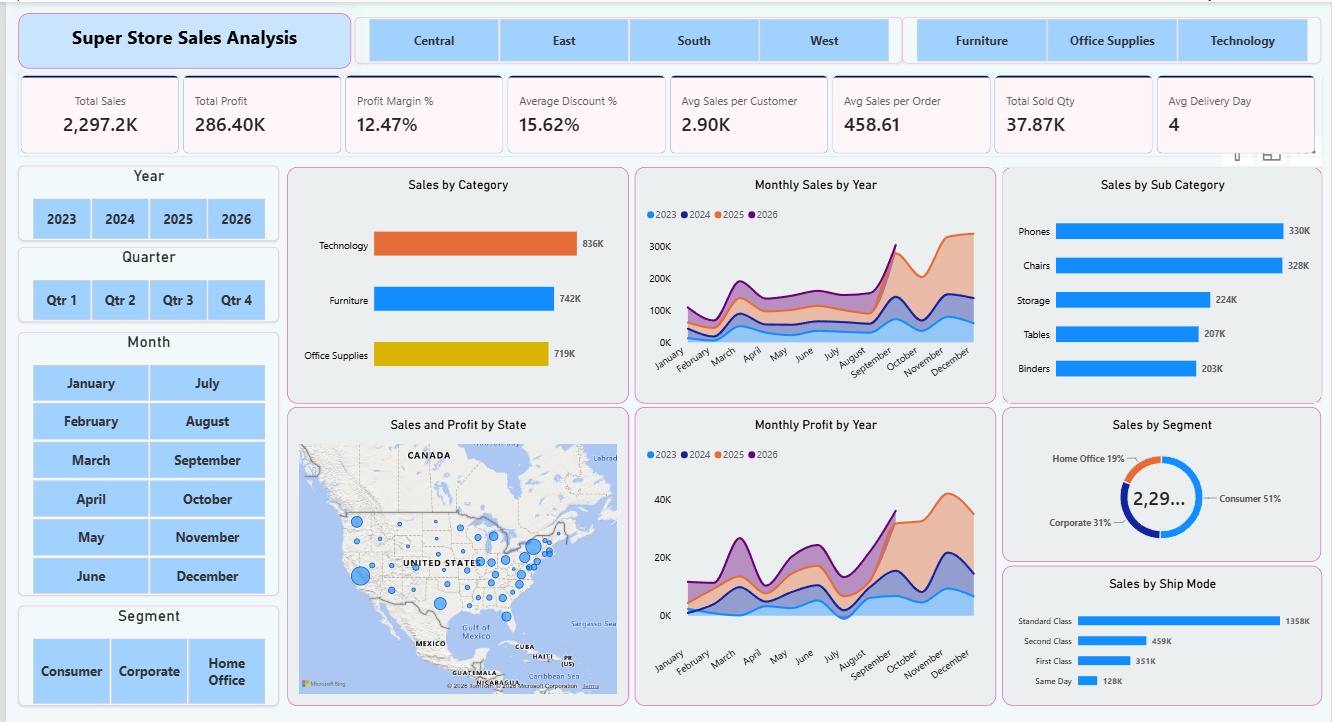

The dashboard page shown, as its layout file describes it:
{"tool":"powerbi","page":{"name":"Page 1","canvas":[1920,1080],"ordinal":0},"visuals":[{"type":"clusteredBarChart","title":"Sales by Category","fields":{"Category":["Superstore.Category"],"Y":["All_Measures.Total Sales"]},"box":[407.2,238.9,494,342],"z":0},{"type":"clusteredBarChart","title":"Sales by Sub Category","fields":{"Category":["Superstore.Sub-Category"],"Y":["All_Measures.Total Sales"]},"box":[1442.3,238.9,463.3,342],"z":1000},{"type":"clusteredBarChart","title":"Sales by Ship Mode","fields":{"Category":["Superstore.Ship Mode"],"Y":["All_Measures.Total Sales"]},"box":[1442.3,816.2,463.3,202.7],"z":2000},{"type":"stackedAreaChart","title":"Monthly Sales by Year","fields":{"Category":["Superstore.Ship Date.Variation.Date Hierarchy.Month"],"Series":["Superstore.Ship Date.Variation.Date Hierarchy.Year"],"Y":["All_Measures.Total Sales"]},"box":[910.3,238.9,523,342],"z":3000},{"type":"stackedAreaChart","title":"Monthly Profit by Year","fields":{"Category":["Superstore.Ship Date.Variation.Date Hierarchy.Month"],"Series":["Superstore.Ship Date.Variation.Date Hierarchy.Year"],"Y":["All_Measures.Total Profit"]},"box":[910.3,586.3,523,432.5],"z":4000},{"type":"map","title":"Sales and Profit by State","fields":{"Category":["Superstore.State"],"Size":["All_Measures.Total Sales"]},"box":[407.2,586.3,494,432.5],"z":5000},{"type":"donutChart","title":"Sales by Segment","fields":{"Category":["Superstore.Segment"],"Y":["All_Measures.Total Sales"]},"box":[1442.3,586.3,461.5,224.4],"z":6000},{"type":"textbox","box":[18.1,16.3,481.4,79.6],"z":7000},{"type":"cardVisual","fields":{"Data":["All_Measures.Total Sales","All_Measures.Total Profit","All_Measures.Profit Margin %","All_Measures.Average Discount %","All_Measures.Avg Sales per Customer","All_Measures.Avg Sales per Order","All_Measures.Total Sold Qty","All_Measures.Avg Delivery Day"]},"box":[18.1,103.2,1887.5,119.4],"z":8000},{"type":"slicer","fields":{"Values":["Superstore.Region"]},"box":[504.9,21.7,792.6,67],"z":9000},{"type":"slicer","fields":{"Values":["Superstore.Category"]},"box":[1297.5,21.7,606.2,67],"z":9001},{"type":"slicer","title":"Year","fields":{"Values":["Superstore.Ship Date.Variation.Date Hierarchy.Year"]},"box":[18.1,237.6,376.4,108.6],"z":9002},{"type":"slicer","title":"Quarter","fields":{"Values":["Superstore.Ship Date.Variation.Date Hierarchy.Quarter"]},"box":[18.1,355.2,376.4,108.6],"z":9003},{"type":"slicer","title":"Month","fields":{"Values":["Superstore.Ship Date.Variation.Date Hierarchy.Month"]},"box":[18.1,477.8,376.4,381.8],"z":9004},{"type":"slicer","title":"Segment","fields":{"Values":["Superstore.Segment"]},"box":[18.1,874.1,376.4,144.8],"z":9005}]}

Visuals, with their boxes on the page's 1920x1080 design canvas (x1, y1, x2, y2). These are canvas units, not pixel positions in the 1332x722 screenshot, which may show the page scaled, cropped or inside an application window:
"Sales by Category" clusteredBarChart: <bbox>407, 239, 901, 581</bbox>
"Sales by Sub Category" clusteredBarChart: <bbox>1442, 239, 1906, 581</bbox>
"Sales by Ship Mode" clusteredBarChart: <bbox>1442, 816, 1906, 1019</bbox>
"Monthly Sales by Year" stackedAreaChart: <bbox>910, 239, 1433, 581</bbox>
"Monthly Profit by Year" stackedAreaChart: <bbox>910, 586, 1433, 1019</bbox>
"Sales and Profit by State" map: <bbox>407, 586, 901, 1019</bbox>
"Sales by Segment" donutChart: <bbox>1442, 586, 1904, 811</bbox>
textbox: <bbox>18, 16, 500, 96</bbox>
cardVisual - All_Measures.Total Sales x All_Measures.Total Profit: <bbox>18, 103, 1906, 223</bbox>
slicer - Superstore.Region: <bbox>505, 22, 1298, 89</bbox>
slicer - Superstore.Category: <bbox>1298, 22, 1904, 89</bbox>
"Year" slicer: <bbox>18, 238, 394, 346</bbox>
"Quarter" slicer: <bbox>18, 355, 394, 464</bbox>
"Month" slicer: <bbox>18, 478, 394, 860</bbox>
"Segment" slicer: <bbox>18, 874, 394, 1019</bbox>
